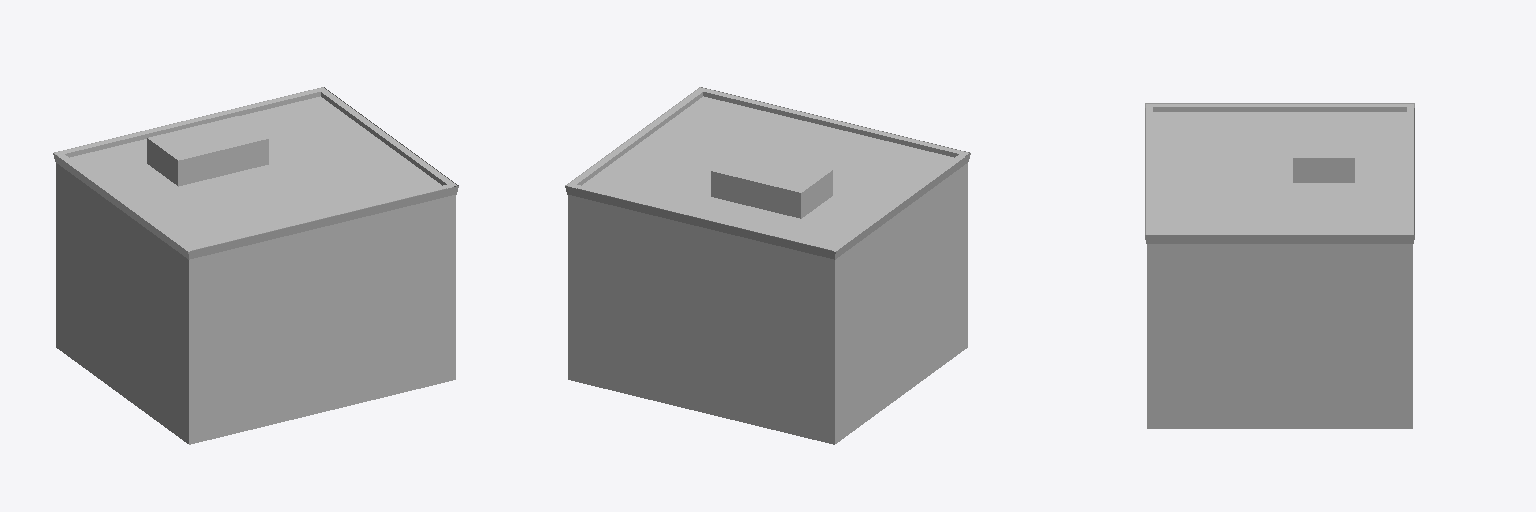
Rendered from building_40.obj.
3 views of the same model, side by side, from view 1: azimuth 30°, elevation 25°; view 2: azimuth 150°, elevation 25°; view 3: azimuth 270°, elevation 25° (orthographic).
Visible parts, largest first — view 1: building_40; view 2: building_40; view 3: building_40.
Part boxes in pixels (x1,y1,x2,y2): building_40: (53, 87, 458, 444); building_40: (565, 87, 970, 444); building_40: (1145, 103, 1414, 428).
Bounding box in the file's own units: 68.2 × 51.93 × 59.05.